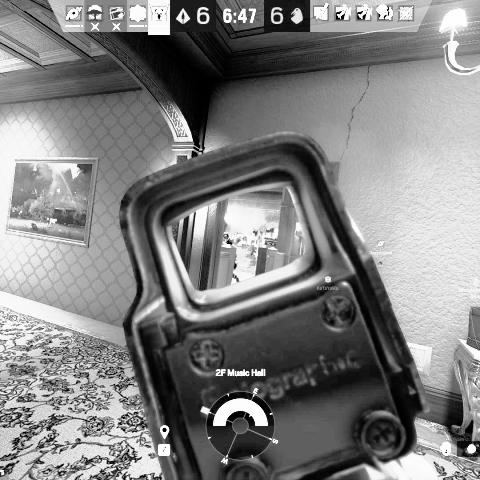Character: (222, 230, 242, 284)
Friend_label: (369, 239, 395, 256), (316, 274, 340, 292), (457, 275, 480, 292)
Head: (223, 231, 231, 241)
